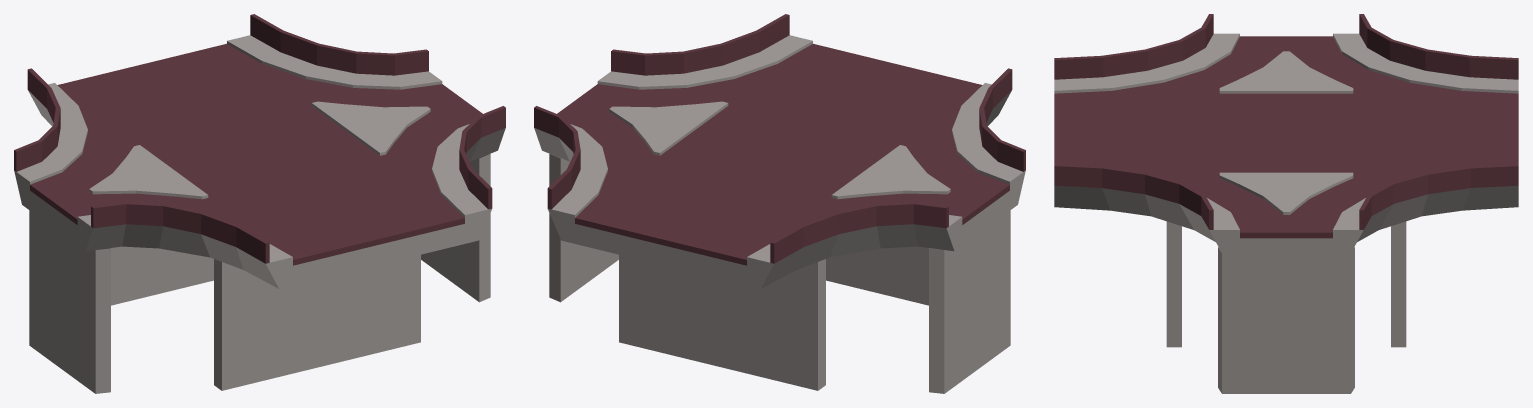
File: bridge-mainroad-exits.fbx
The picture shows the model from 3 angles, left to right: view 1: azimuth 30°, elevation 25°; view 2: azimuth 150°, elevation 25°; view 3: azimuth 270°, elevation 25°; orthographic projection. The views are drawn at different scales.
Parts seen in each view (by area): view 1: bridge-mainroad-ramp; view 2: bridge-mainroad-ramp; view 3: bridge-mainroad-ramp.
Boxes of the visible parts, bbox=[...] form: bridge-mainroad-ramp: bbox=[14, 14, 505, 393]; bridge-mainroad-ramp: bbox=[534, 14, 1025, 393]; bridge-mainroad-ramp: bbox=[1054, 14, 1518, 393].
Size of the model in its own units: 30 by 13.4 by 30.
